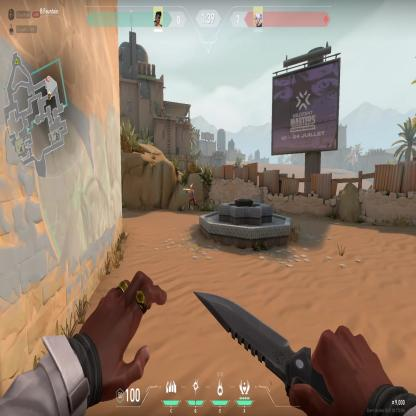enemy: (186, 182, 200, 213)
